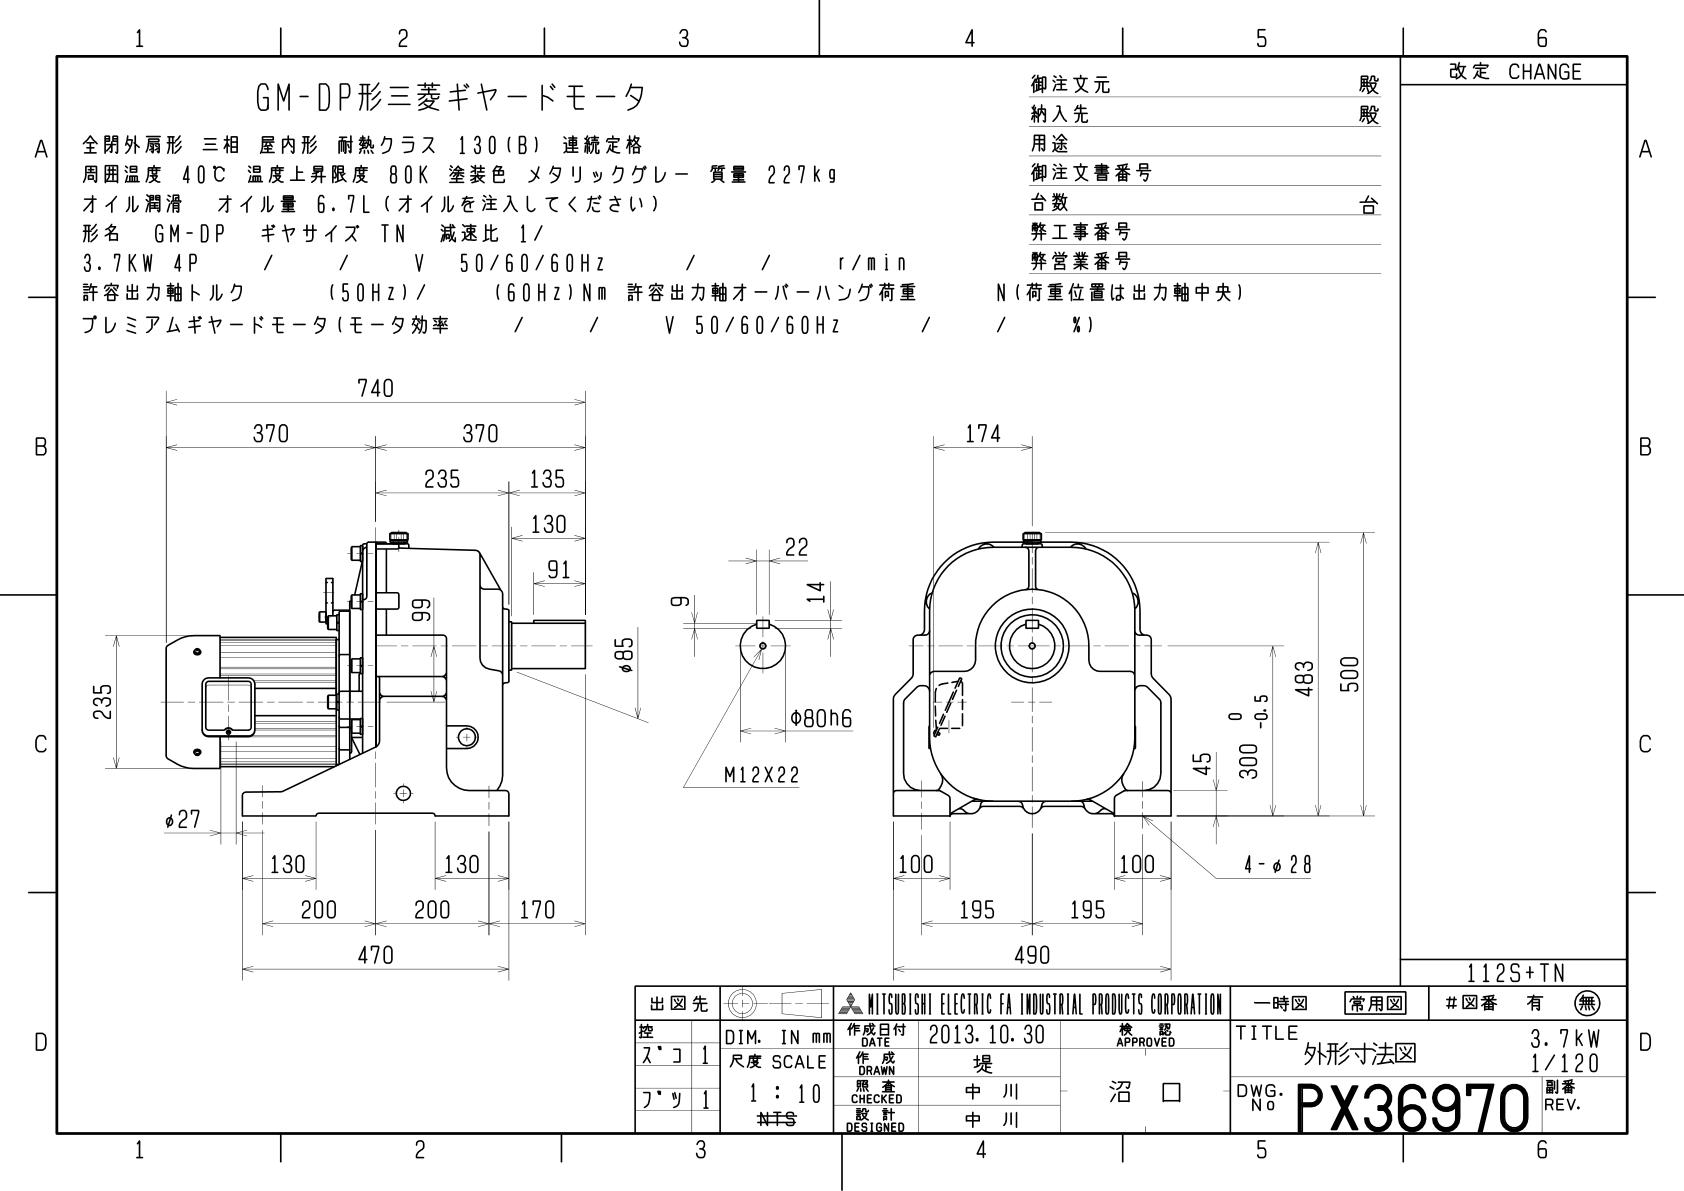GM_DP_屋内_三相_脚: (81, 360, 1377, 982)
